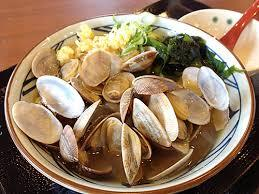asari: (1, 7, 257, 194)
